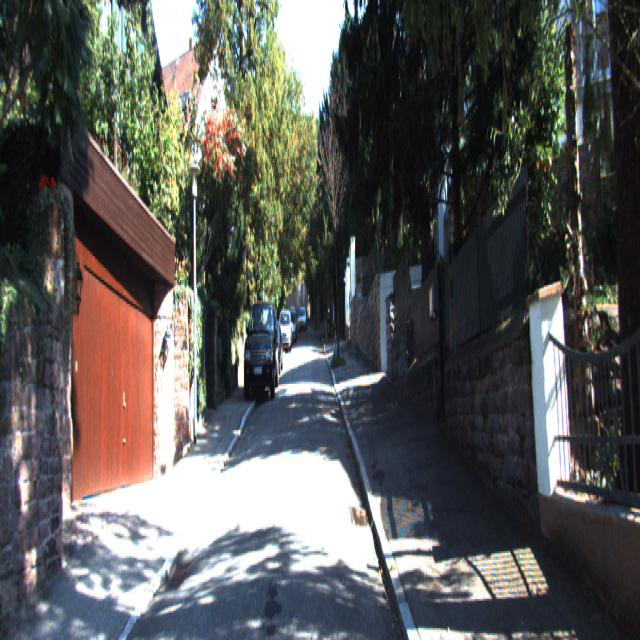Car: (242, 300, 279, 408), (278, 308, 293, 354)
